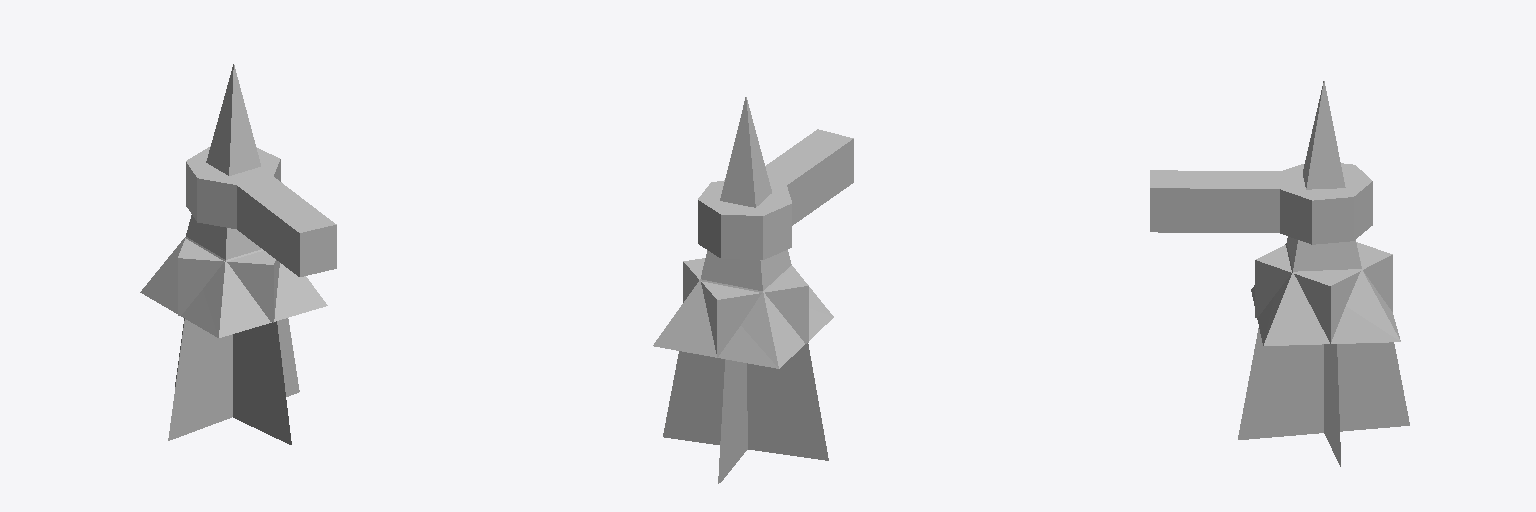
Rendered from antorcha_000035.obj.
The picture shows the model from 3 angles: view 1: azimuth 30°, elevation 25°; view 2: azimuth 150°, elevation 25°; view 3: azimuth 270°, elevation 25°; orthographic projection.
Parts seen in each view (by area): view 1: Cylinder; view 2: Cylinder; view 3: Cylinder.
Boxes of the visible parts, x1=… form: Cylinder: x1=140, y1=64, x2=336, y2=444; Cylinder: x1=653, y1=97, x2=853, y2=483; Cylinder: x1=1150, y1=81, x2=1409, y2=466.
Bounding box in the file's own units: 13.83 × 31.41 × 20.94.